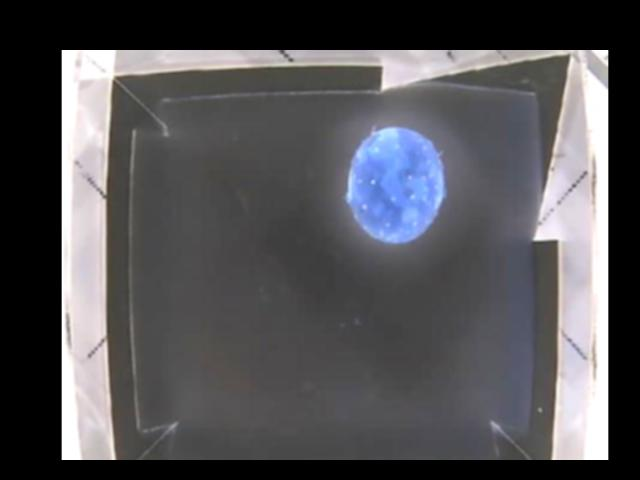Potato: (348, 127, 444, 243)
